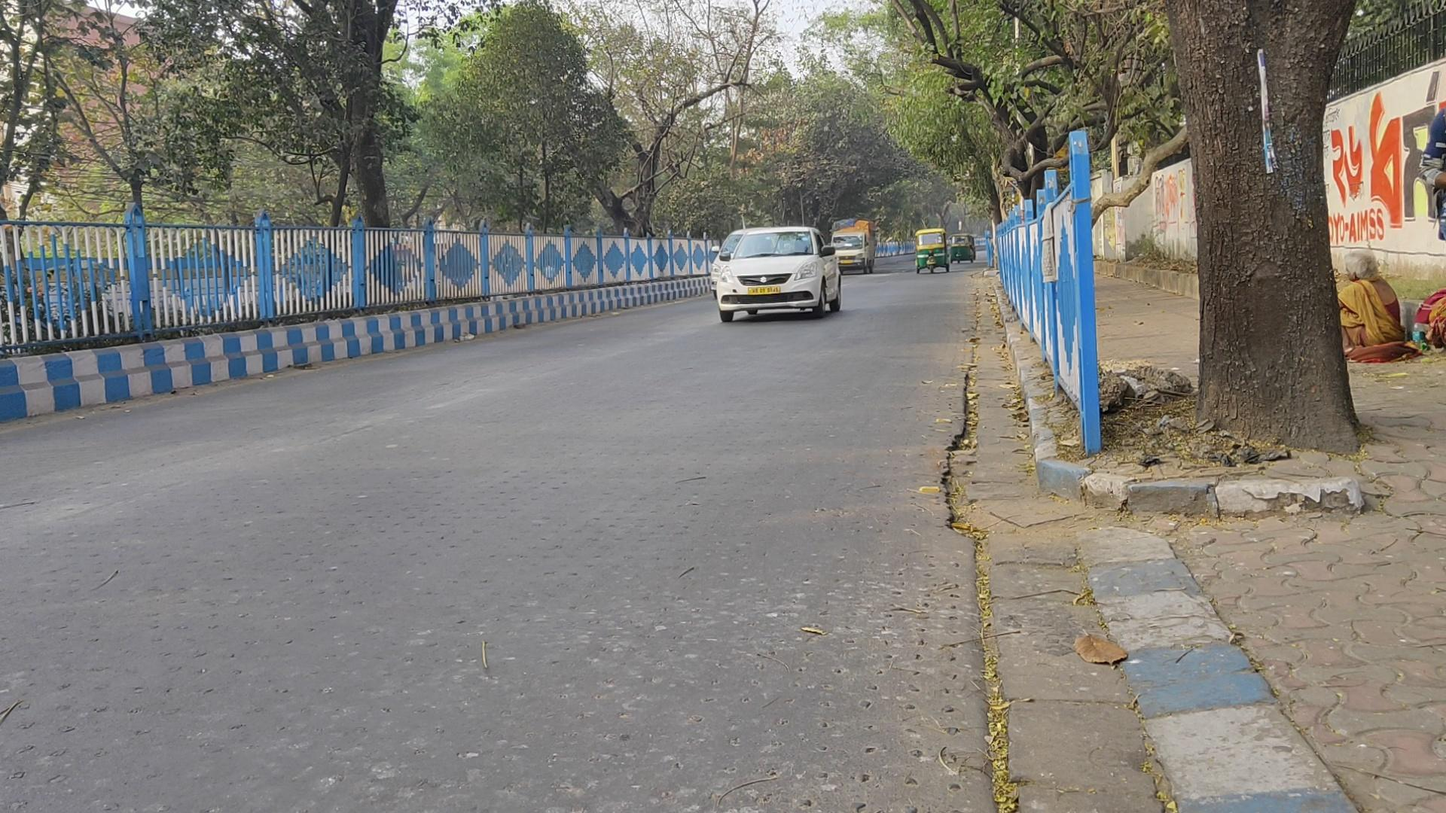Auto: (914, 227, 952, 275), (949, 230, 978, 266)
car: (715, 227, 842, 324)
van: (830, 218, 877, 276)
